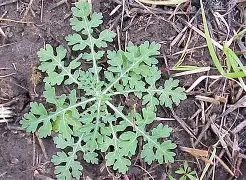weed: (34, 3, 182, 172)
